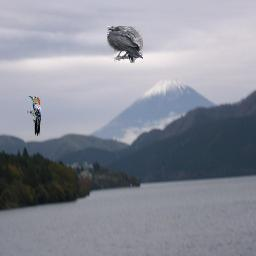Crow: (107, 26, 143, 63)
Woodpecker: (27, 96, 41, 136)
